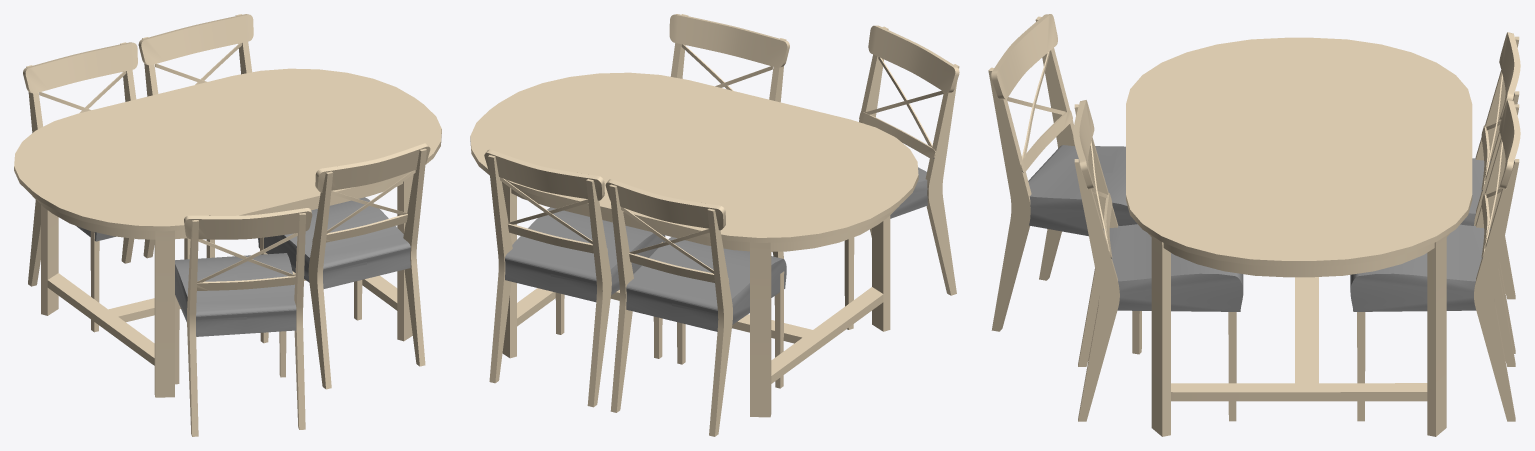
Rendered from IKEA-Leksvik_Table_And_4_Ingolf_Chairs-3D.obj.
3 views of the same model, side by side, from view 1: azimuth 30°, elevation 25°; view 2: azimuth 150°, elevation 25°; view 3: azimuth 270°, elevation 25° (orthographic). The views are drawn at different scales.
Visible parts, largest first — view 1: Layer_0; view 2: Layer_0; view 3: Layer_0.
Boxes of the visible parts, x1,y1,x2,y2 form: Layer_0: (14,14,441,436); Layer_0: (470,14,959,436); Layer_0: (988,14,1520,436).
Bounding box in the file's own units: 1670 × 917 × 1681.
